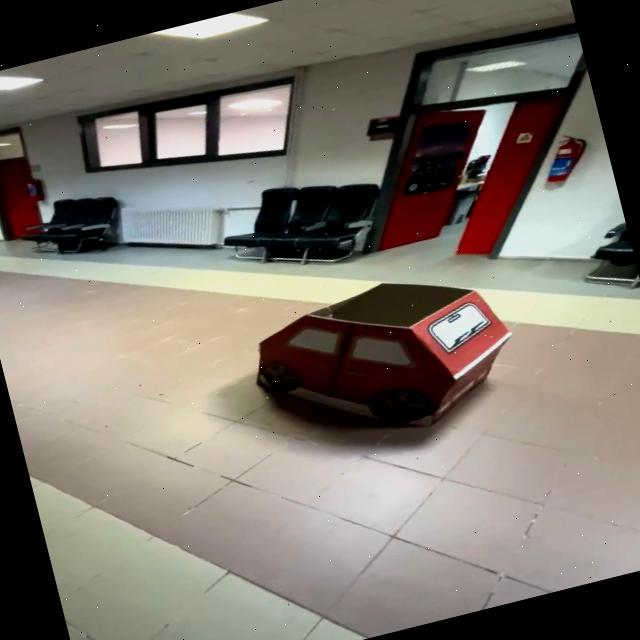red_car: (165, 228, 555, 521)
